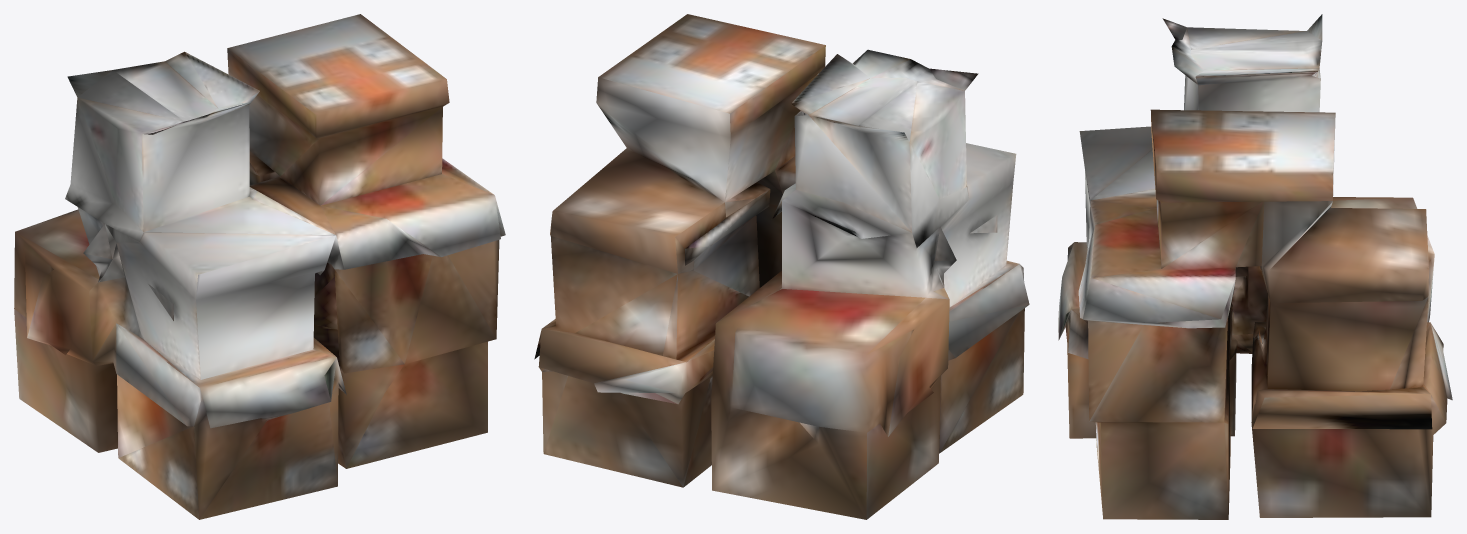
The model's file is prop3d-boxes.glb.
3 views of the same model, side by side, from view 1: azimuth 30°, elevation 25°; view 2: azimuth 150°, elevation 25°; view 3: azimuth 270°, elevation 25° (orthographic).
Size of the model in its own units: 2 by 1.98 by 1.98.
Materials: 1 (1 with a texture image).
